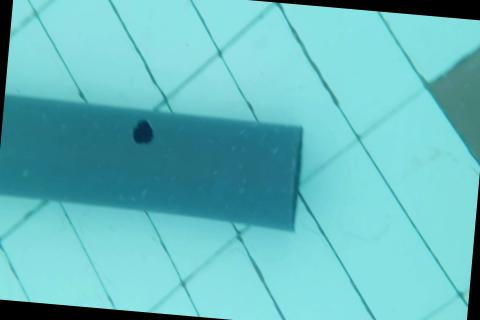kebocoran: (131, 117, 156, 146)
